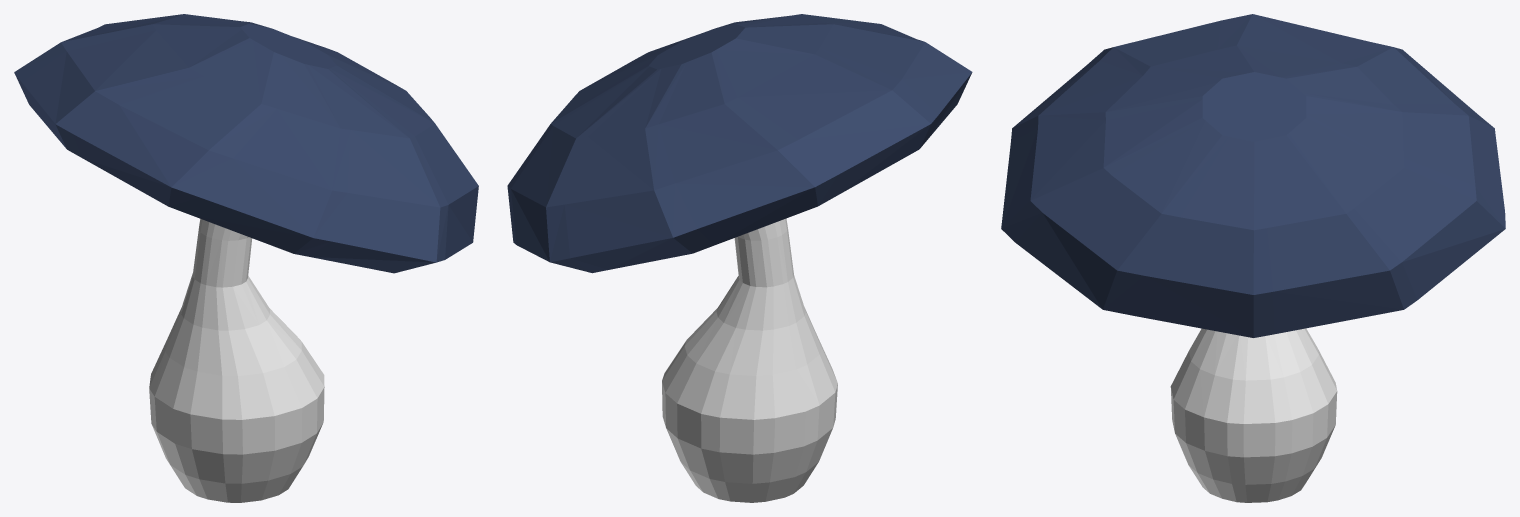
Rendered from Mushroom.fbx.
3 views of the same model, side by side, from view 1: azimuth 30°, elevation 25°; view 2: azimuth 150°, elevation 25°; view 3: azimuth 270°, elevation 25° (orthographic). The views are drawn at different scales.
Visible parts, largest first — view 1: pCylinder1; view 2: pCylinder1; view 3: pCylinder1.
Part boxes in pixels (x1,y1,x2,y2): pCylinder1: (14, 14, 478, 502); pCylinder1: (507, 14, 972, 502); pCylinder1: (1001, 14, 1505, 502).
Size of the model in its own units: 6.08 by 6.68 by 7.37.
